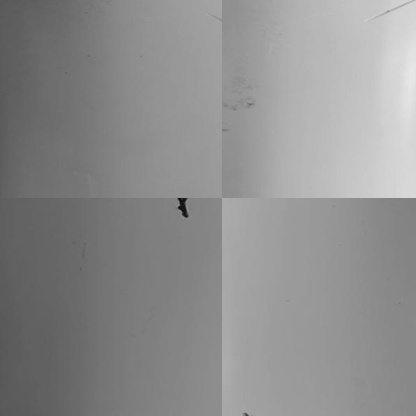kongdong: (173, 196, 193, 223)
sunshang: (364, 1, 416, 23)
